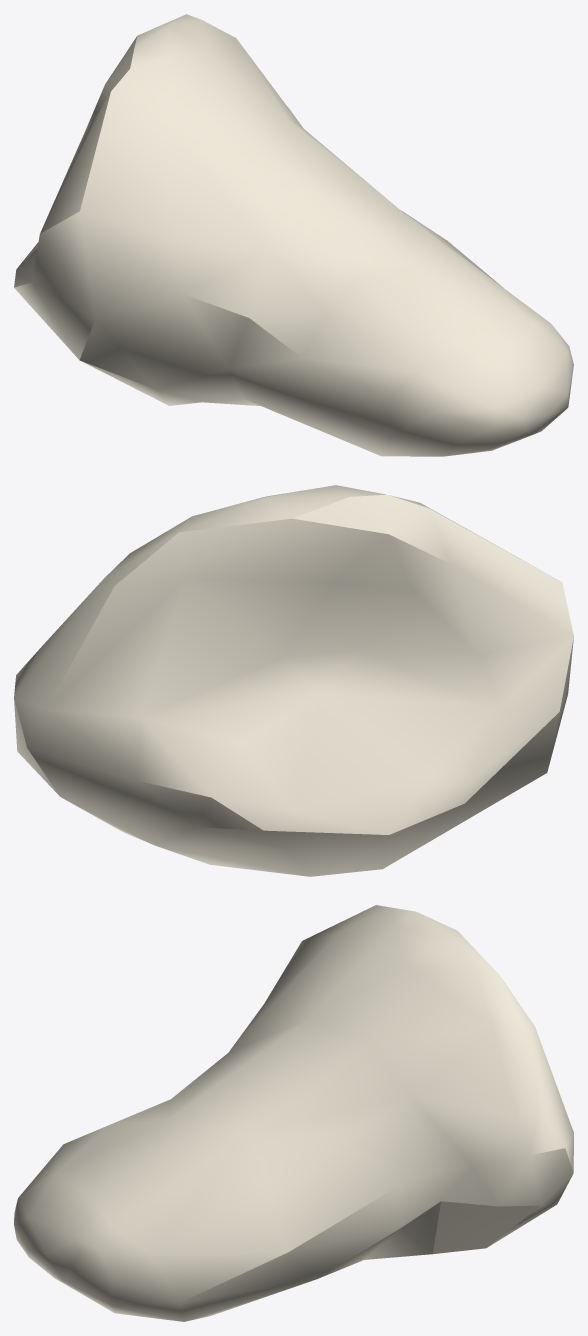
Rendered from fma32657_fj3181.glb.
3 renders of one model, top to bottom at view 1: azimuth 30°, elevation 25°; view 2: azimuth 150°, elevation 25°; view 3: azimuth 270°, elevation 25°, orthographic. The views are drawn at different scales.
Visible parts, largest first — view 1: FMA32657_FJ3181; view 2: FMA32657_FJ3181; view 3: FMA32657_FJ3181.
Boxes of the visible parts, bbox=[...] form: FMA32657_FJ3181: bbox=[14, 14, 573, 456]; FMA32657_FJ3181: bbox=[14, 485, 573, 876]; FMA32657_FJ3181: bbox=[14, 905, 573, 1321].
Bounding box in the file's own units: 0.00886 × 0.00685 × 0.0111.
